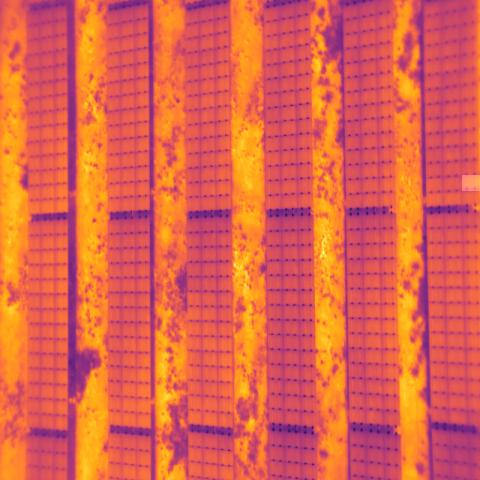fault: (462, 176, 480, 192)
